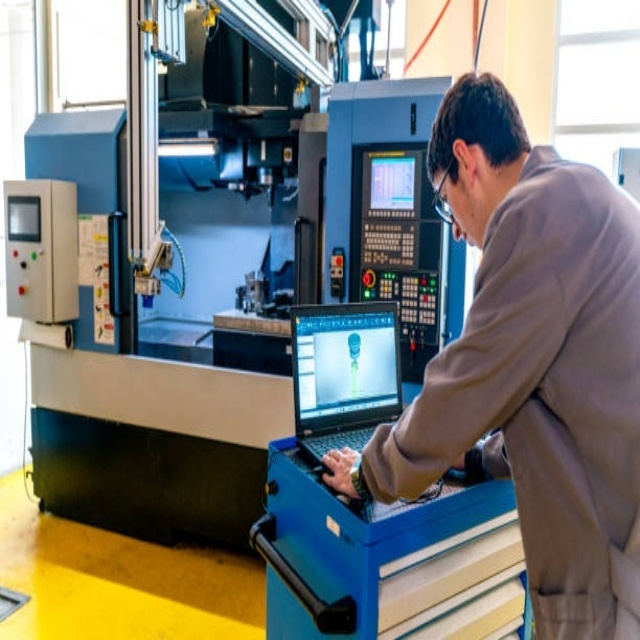Gafas: (429, 155, 459, 224)
Sin_guantes: (321, 449, 363, 501)
Sin_mascara: (453, 224, 483, 251)
